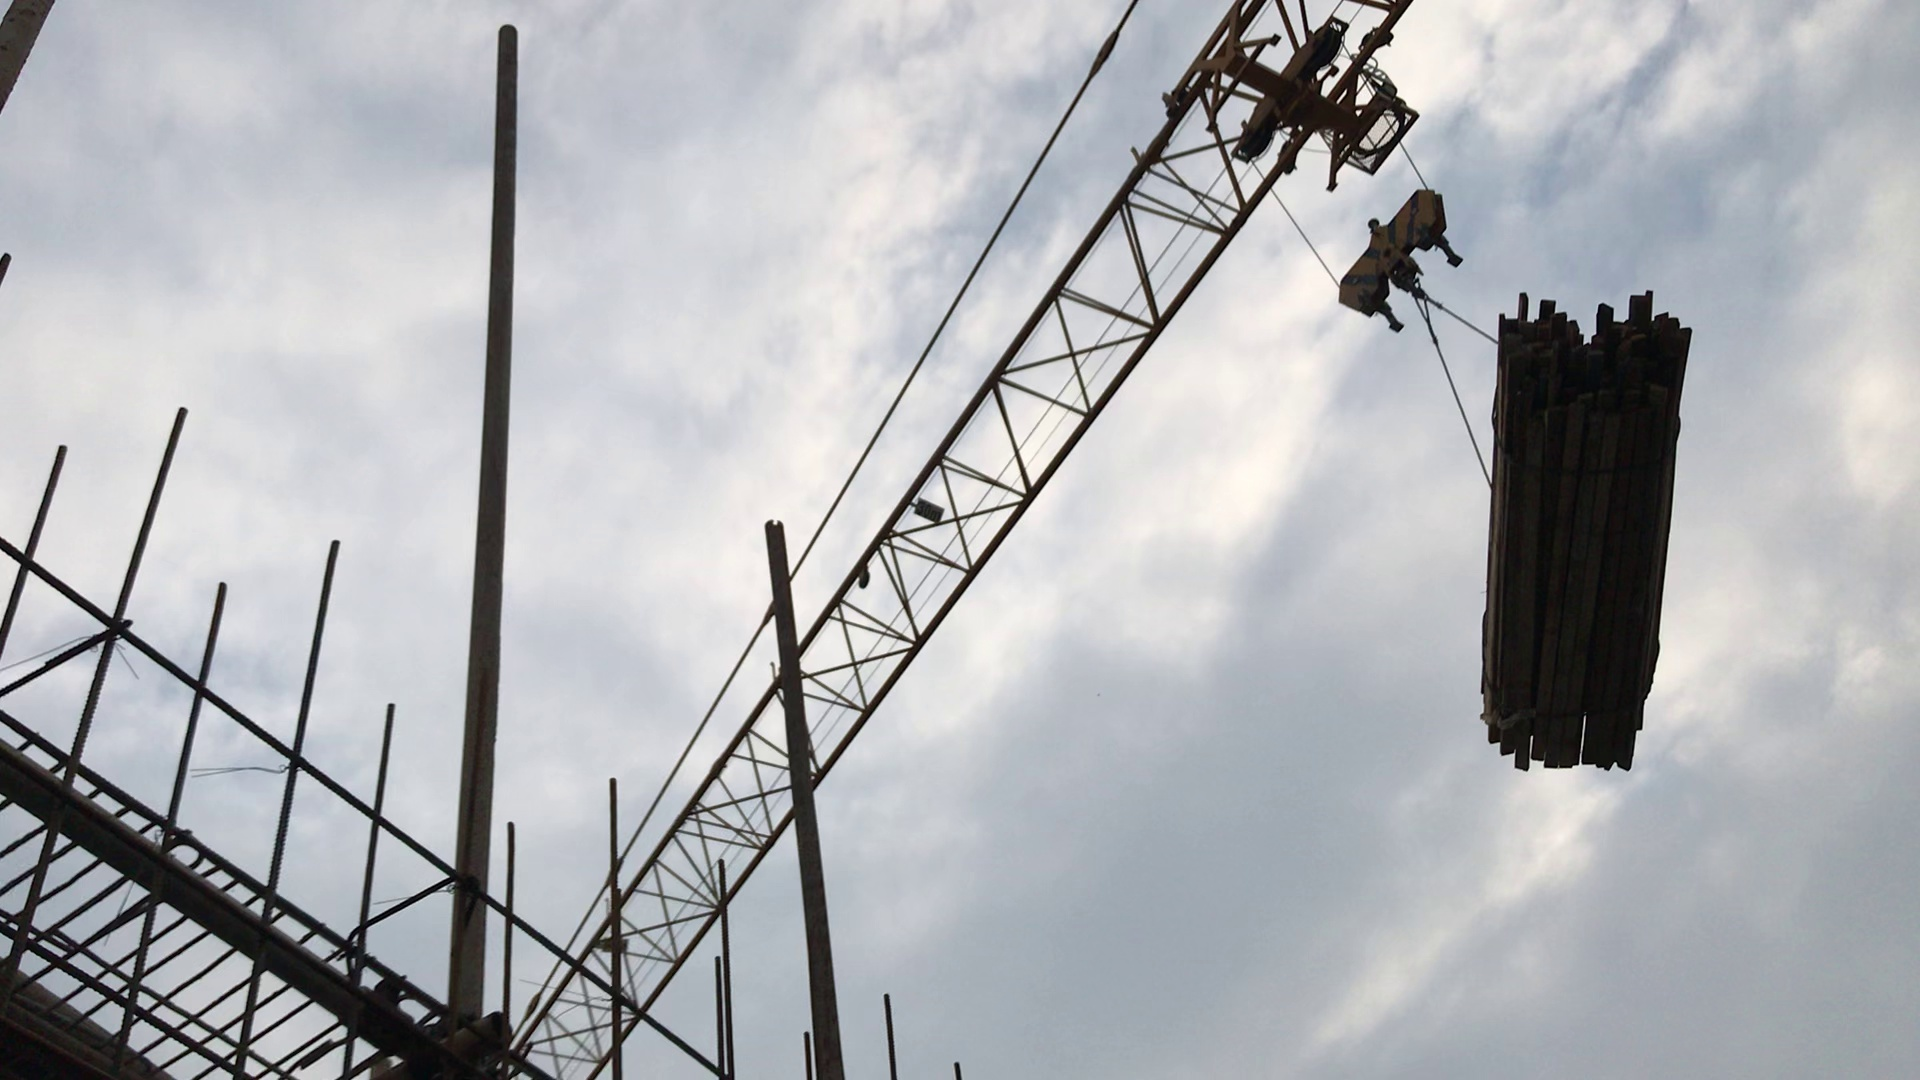hook: (1327, 175, 1472, 345)
